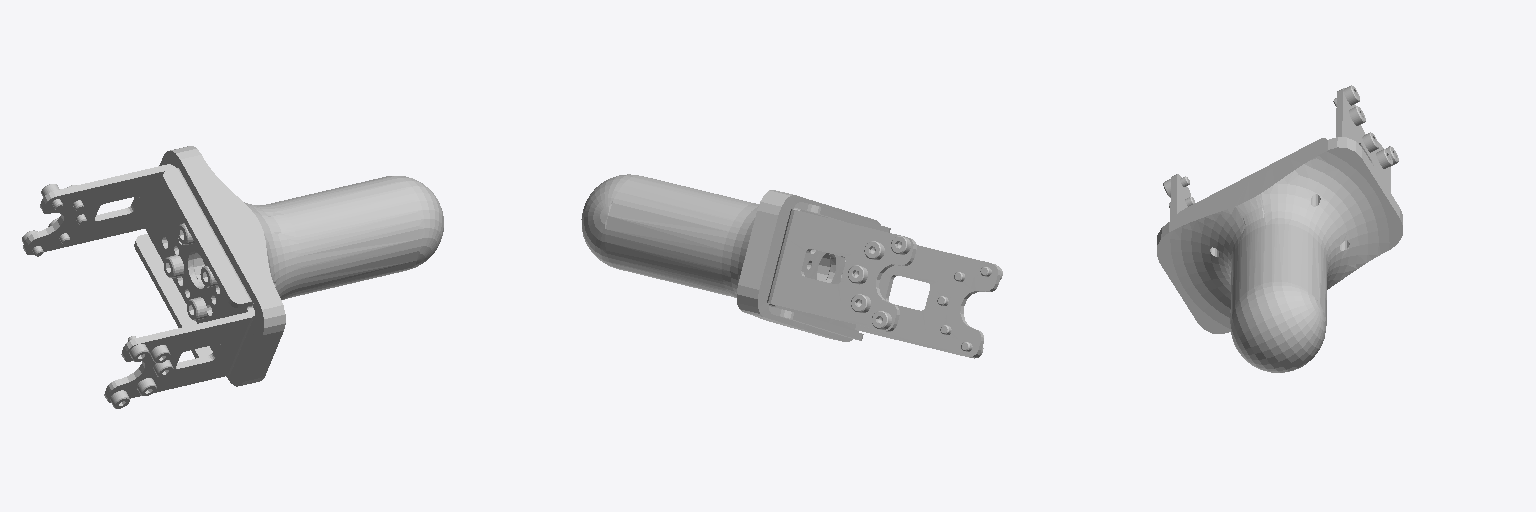
3 views of the same model, side by side, from view 1: azimuth 30°, elevation 25°; view 2: azimuth 150°, elevation 25°; view 3: azimuth 270°, elevation 25° (orthographic).
Parts seen in each view (by area): view 1: Link3_2; view 2: Link3_2; view 3: Link3_2.
Part boxes in pixels (left/top/right/bottom): Link3_2: left=22, top=146, right=443, bottom=408; Link3_2: left=581, top=174, right=1002, bottom=358; Link3_2: left=1157, top=85, right=1402, bottom=372.
Size of the model in its own units: 0.0864 by 0.0428 by 0.051.